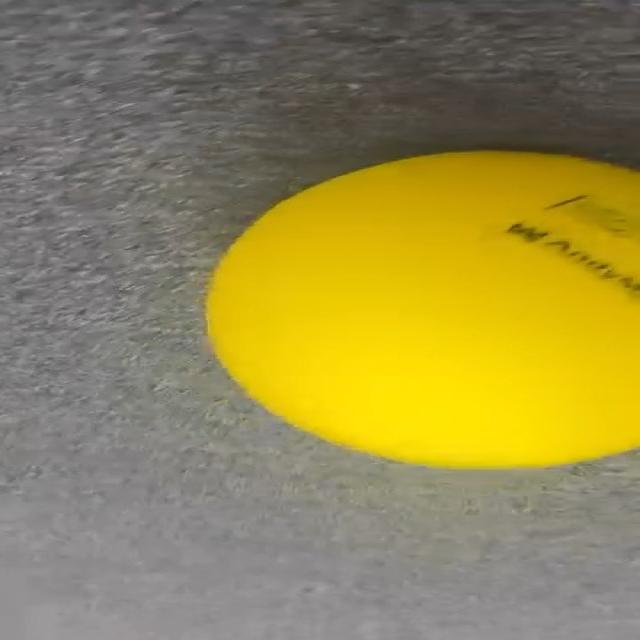Fuels: (208, 150, 638, 467)
